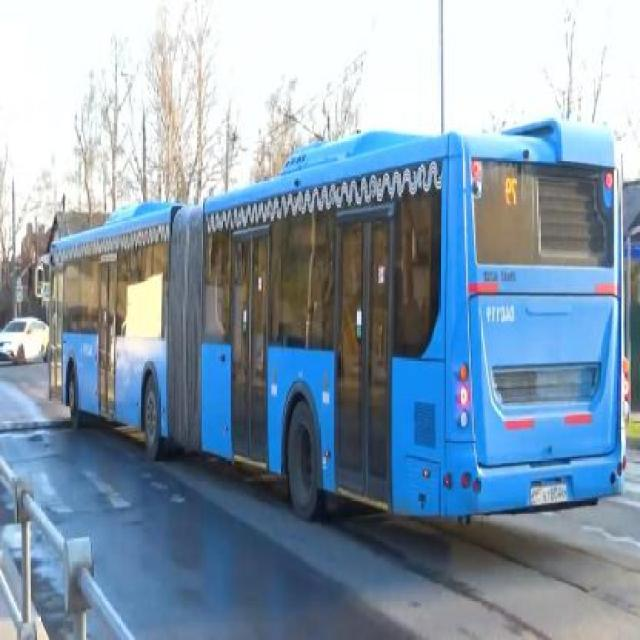bus: (36, 116, 630, 524)
